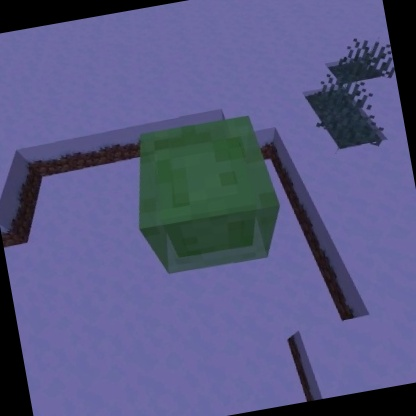slime: (118, 106, 295, 285)
